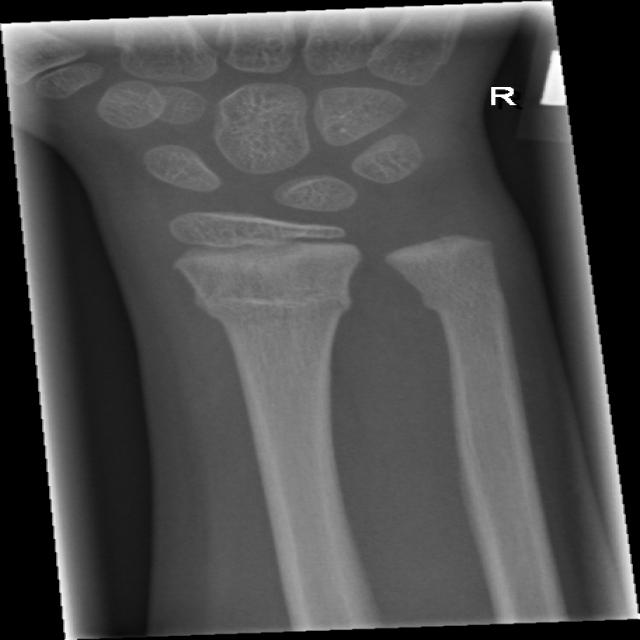radius fracture: (176, 270, 394, 390)
ulna fracture: (380, 237, 543, 396)
